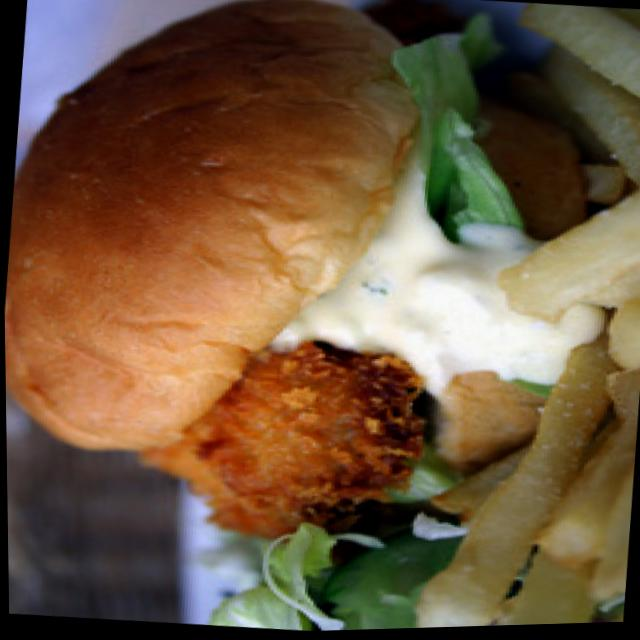汉堡快餐: (0, 0, 596, 568)
炸货点心: (407, 0, 640, 631)
